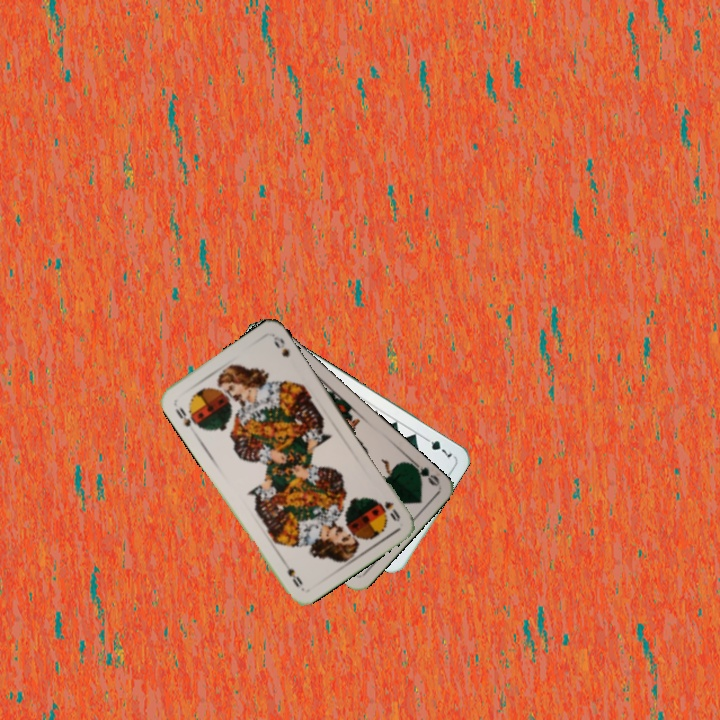G7: (419, 432, 455, 460)
GO: (405, 455, 442, 488)
SO: (380, 497, 403, 524), (171, 403, 194, 430)
